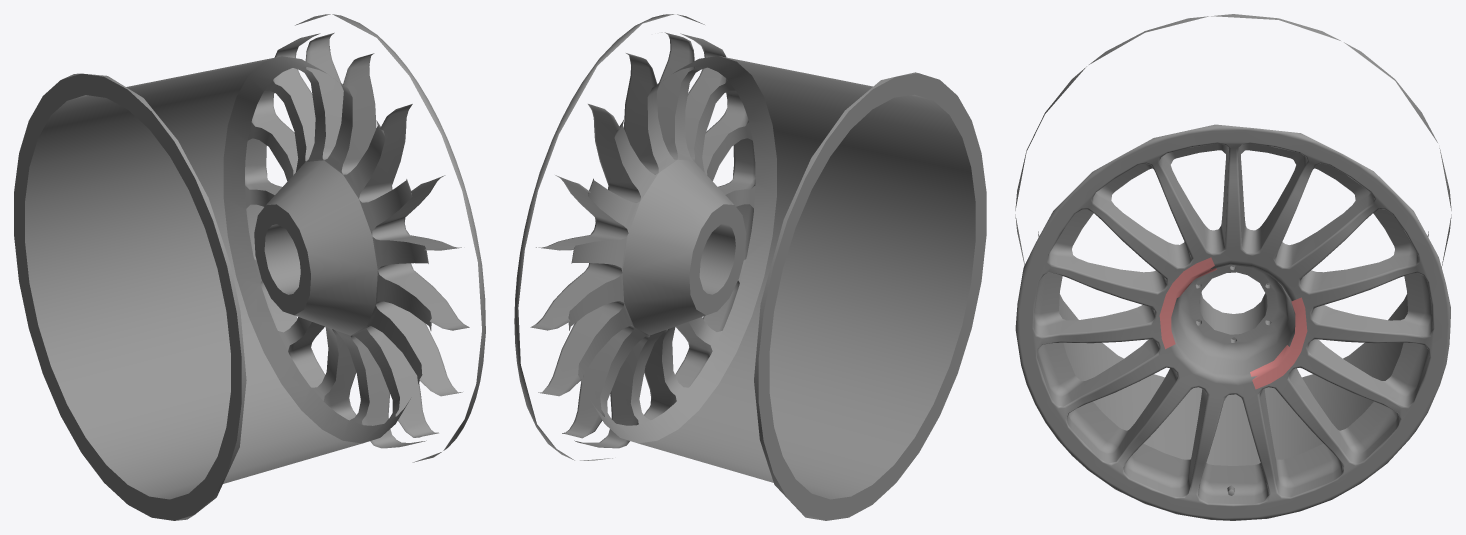
The model's file is ktm_xbow_gt4_rim_lr_Lod1.gltf.
3 renders of one model, left to right at view 1: azimuth 30°, elevation 25°; view 2: azimuth 150°, elevation 25°; view 3: azimuth 270°, elevation 25°, orthographic. The views are drawn at different scales.
Visible parts, largest first — view 1: ktm_xbow_gt4_rim_lr_Lod1; view 2: ktm_xbow_gt4_rim_lr_Lod1; view 3: ktm_xbow_gt4_rim_lr_Lod1.
Boxes of the visible parts, box(x1,y1,x2,y2) form: ktm_xbow_gt4_rim_lr_Lod1: box(14, 14, 485, 520); ktm_xbow_gt4_rim_lr_Lod1: box(514, 14, 986, 520); ktm_xbow_gt4_rim_lr_Lod1: box(1015, 14, 1451, 520).
Bounding box in the file's own units: 0.3069 × 0.4973 × 0.4985.
